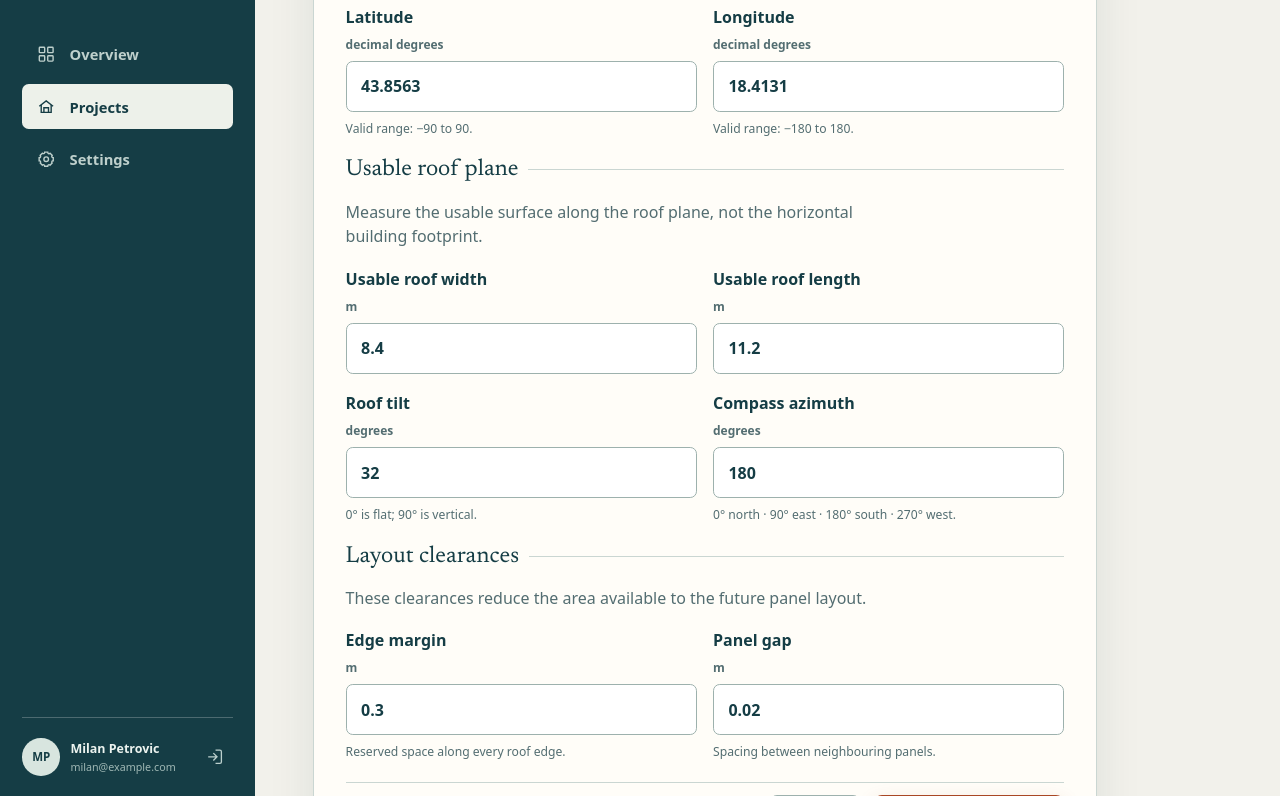
Test case: SolarPlan application routes › loads, edits, and saves a roof configuration
(page scrolled)
Type "9.1" into the number field labelled "Usable roof width m" at {"x": 521, "y": 348}, box [346, 323, 697, 374]
(page scrolled)
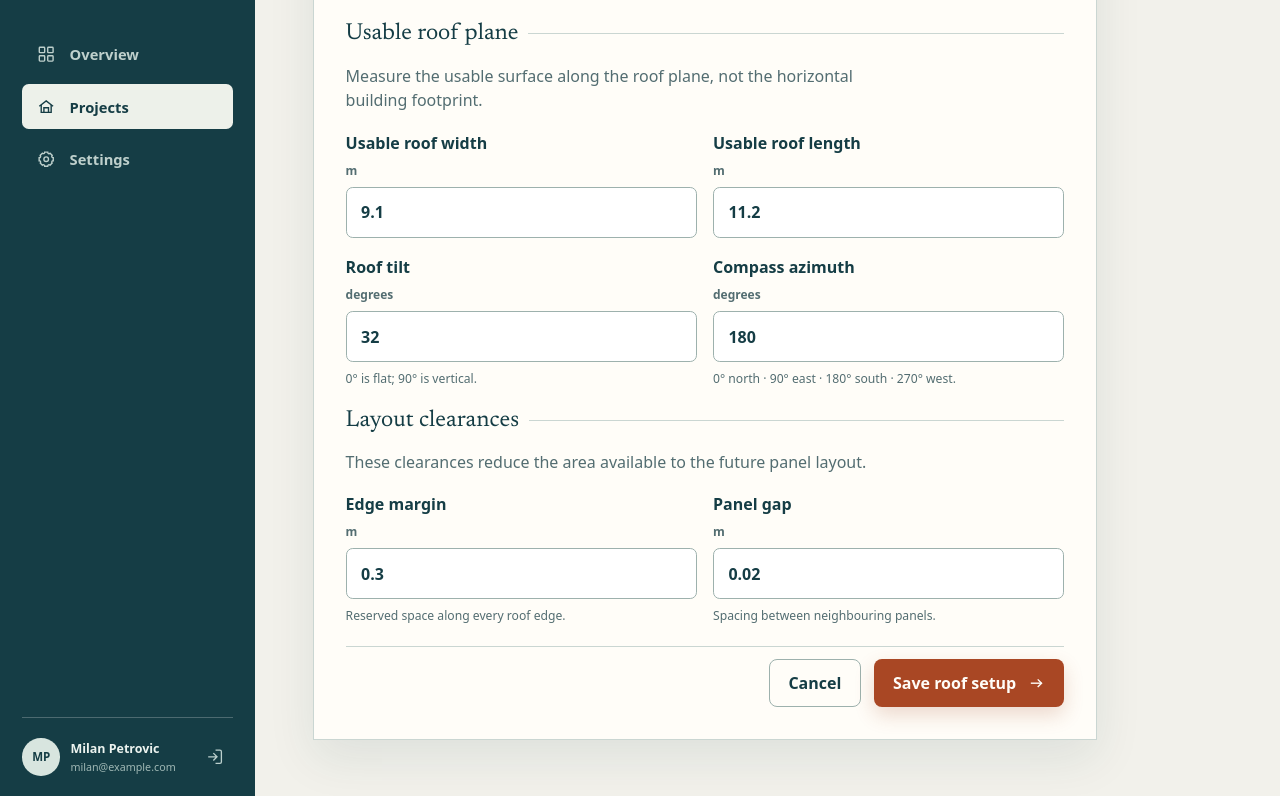
Click the button "Save roof setup" at {"x": 969, "y": 683}, box [874, 659, 1064, 707]
(page scrolled)
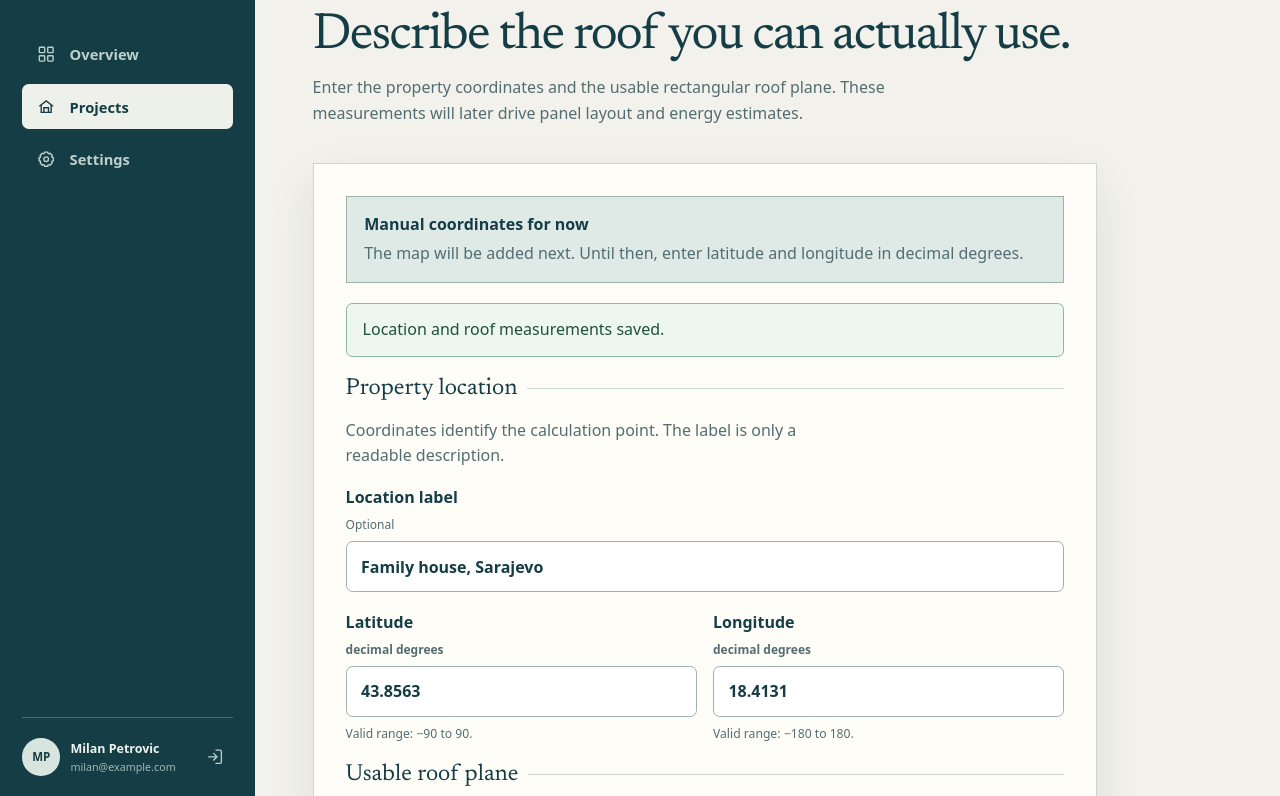
Expected: the text "Location and roof measurements saved." is shown, [346, 303, 1064, 357]
